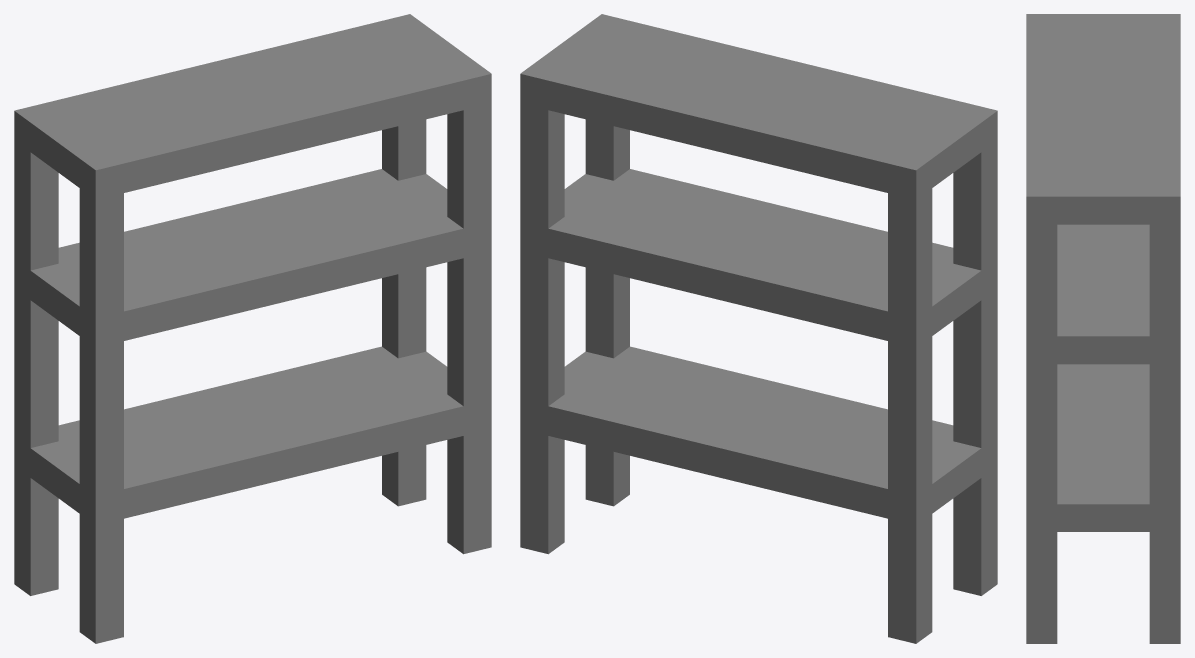
Rendered from CupboardEmpty2.obj.
3 views of the same model, side by side, from view 1: azimuth 30°, elevation 25°; view 2: azimuth 150°, elevation 25°; view 3: azimuth 270°, elevation 25° (orthographic). The views are drawn at different scales.
Bounding box in the file's own units: 1.4 × 1.6 × 0.5.
1 material, 1 textured.
